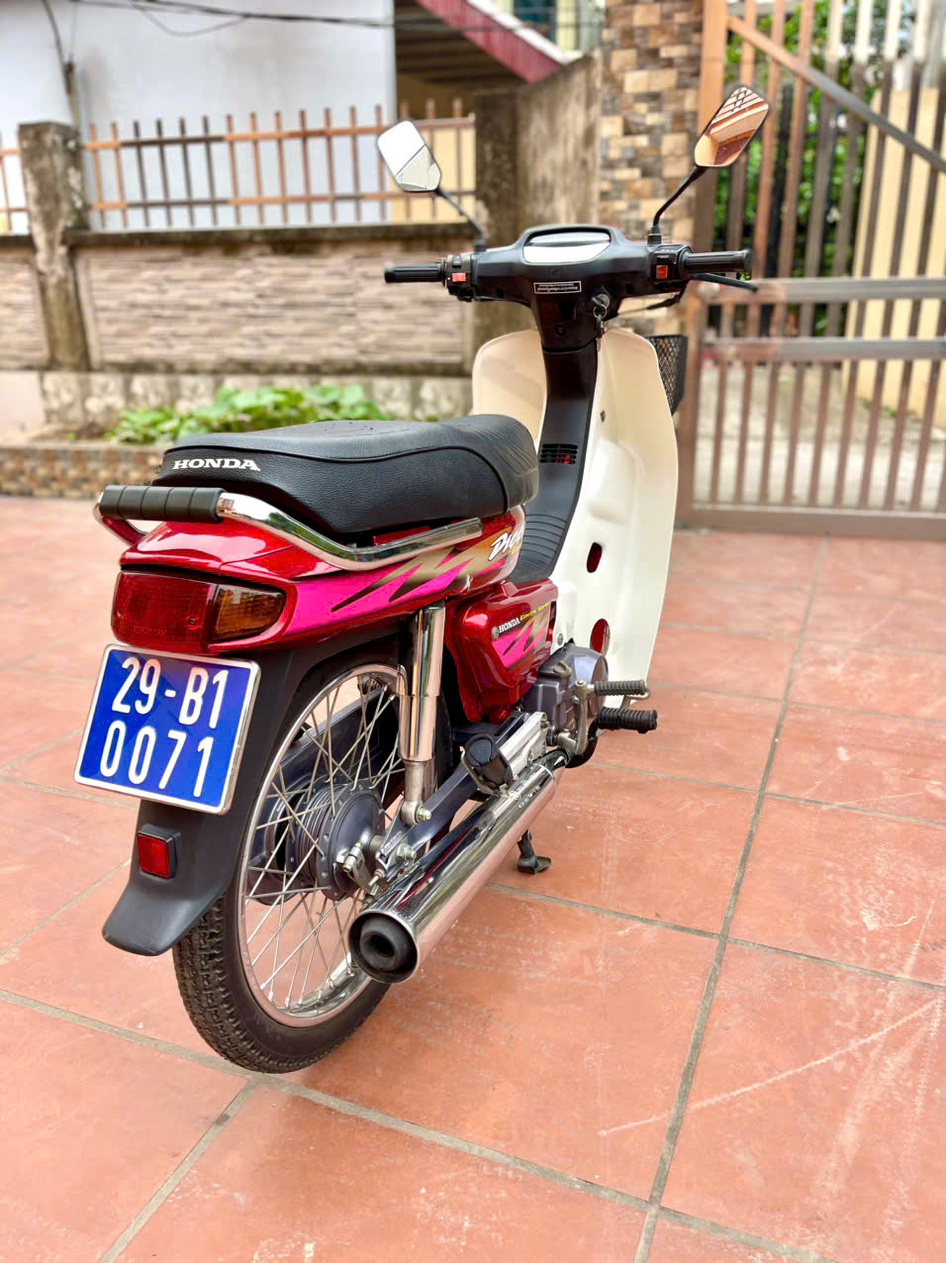bien_so: (67, 634, 274, 825)
